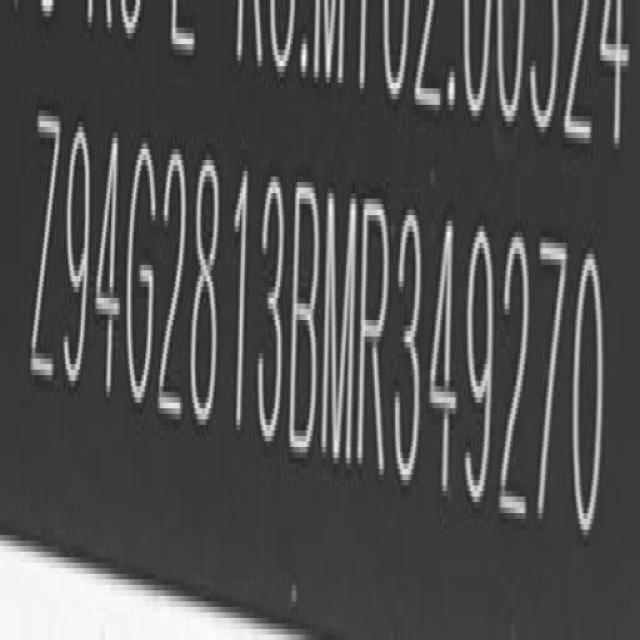0: (572, 242, 605, 539)
1: (231, 164, 251, 442)
2: (500, 228, 533, 526), (158, 138, 188, 424)
3: (392, 206, 423, 484), (259, 169, 286, 450)
4: (95, 124, 125, 404), (431, 214, 459, 501)
7: (537, 236, 570, 538)
8: (192, 151, 220, 427)
9: (465, 221, 494, 509), (64, 117, 92, 400)
B: (291, 175, 322, 466)
G: (125, 137, 160, 421)
M: (321, 185, 356, 475)
R: (359, 194, 391, 481)
Z: (31, 105, 62, 397)
